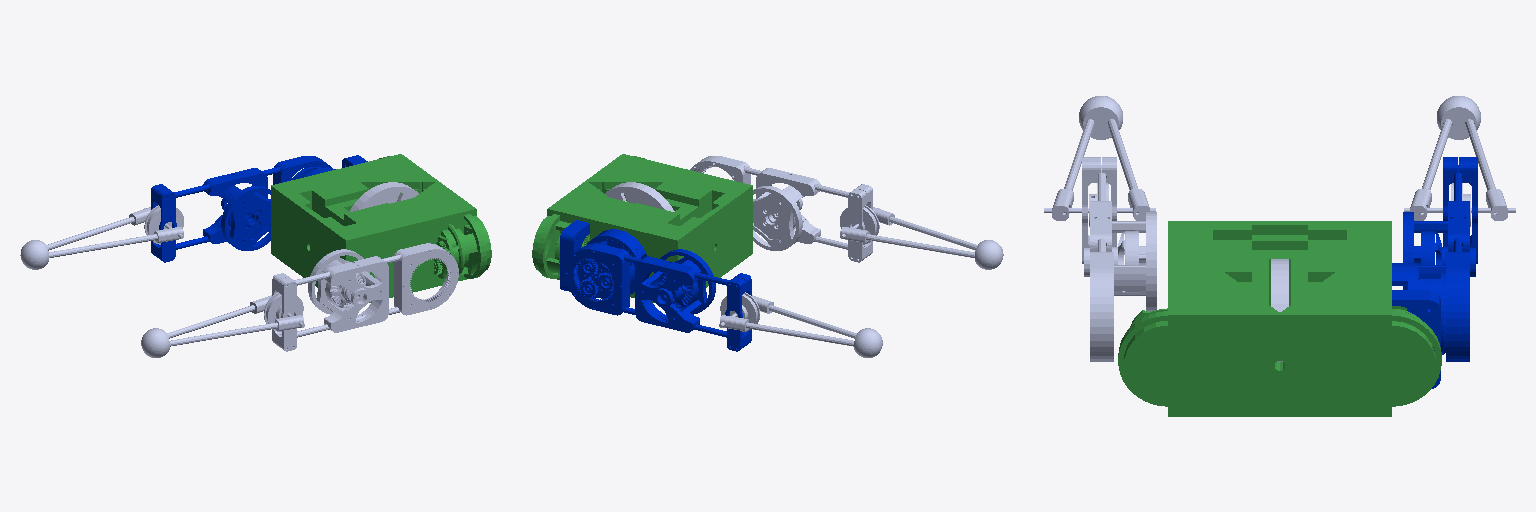
The robot description file, URDF, robot "Biped_SphereFoot":
<?xml version="1.0" encoding="utf-8"?>
<!-- This URDF was automatically created by SolidWorks to URDF Exporter! Originally created by [author] ([email redacted]) 
     Commit Version: 1.6.0-4-g7f85cfe  Build Version: 1.6.7995.38578
     For more information, please see http://wiki.ros.org/sw_urdf_exporter -->
<robot
  name="Biped_SphereFoot">
  <link
    name="Body">
    <inertial>
      <origin
        xyz="0.00875 -0.00011577 0.049281"
        rpy="0 0 0" />
      <mass
        value="0.5" />
      <inertia
        ixx="0.016664"
        ixy="-2.5817E-16"
        ixz="-2.5495E-05"
        iyy="0.01491"
        iyz="3.7322E-12"
        izz="0.025732" />
    </inertial>
    <visual>
      <origin
        xyz="0 0 0"
        rpy="0 0 0" />
      <geometry>
        <mesh
          filename="../meshes/Body.STL" />
      </geometry>
      <material
        name="">
        <color
          rgba="0.28627 0.66275 0.32941 1" />
      </material>
    </visual>
    <collision>
      <origin
        xyz="0 0 0"
        rpy="0 0 0" />
      <geometry>
        <mesh
          filename="../meshes/Body.STL" />
      </geometry>
    </collision>
  </link>
  <link
    name="L_Hip">
    <inertial>
      <origin
        xyz="-0.029749 0.019238 -1.7814E-08"
        rpy="0 0 0" />
      <mass
        value="0.24499" />
      <inertia
        ixx="0.00022957"
        ixy="-3.2972E-12"
        ixz="-2.2508E-10"
        iyy="0.00023971"
        iyz="-5.4613E-12"
        izz="0.00016193" />
    </inertial>
    <visual>
      <origin
        xyz="0 0 0"
        rpy="0 0 0" />
      <geometry>
        <mesh
          filename="../meshes/L_Hip.STL" />
      </geometry>
      <material
        name="">
        <color
          rgba="0.0078431 0.23922 0.82353 1" />
      </material>
    </visual>
    <collision>
      <origin
        xyz="0 0 0"
        rpy="0 0 0" />
      <geometry>
        <mesh
          filename="../meshes/L_Hip.STL" />
      </geometry>
    </collision>
  </link>
  <joint
    name="L_J1"
    type="revolute">
    <origin
      xyz="0.034433 0.1 0.05"
      rpy="0 0 0" />
    <parent
      link="Body" />
    <child
      link="L_Hip" />
    <axis
      xyz="1 0 0" />
    <limit
      lower="-0.35"
      upper="0.35"
      effort="2"
      velocity="0" />
  </joint>
  <link
    name="L_Thigh">
    <inertial>
      <origin
        xyz="-0.098727 -0.021408 5.2332E-07"
        rpy="0 0 0" />
      <mass
        value="0.24662" />
      <inertia
        ixx="0.00019357"
        ixy="-2.9018E-06"
        ixz="1.9838E-08"
        iyy="0.00032526"
        iyz="1.1756E-10"
        izz="0.00016215" />
    </inertial>
    <visual>
      <origin
        xyz="0 0 0"
        rpy="0 0 0" />
      <geometry>
        <mesh
          filename="../meshes/L_Thigh.STL" />
      </geometry>
      <material
        name="">
        <color
          rgba="0.0078431 0.23922 0.82353 1" />
      </material>
    </visual>
    <collision>
      <origin
        xyz="0 0 0"
        rpy="0 0 0" />
      <geometry>
        <mesh
          filename="../meshes/L_Thigh.STL" />
      </geometry>
    </collision>
  </link>
  <joint
    name="L_J2"
    type="revolute">
    <origin
      xyz="-0.04598 0.07 0"
      rpy="0 0 0" />
    <parent
      link="L_Hip" />
    <child
      link="L_Thigh" />
    <axis
      xyz="0 -1 0" />
    <limit
      lower="-2.8"
      upper="2.8"
      effort="2"
      velocity="0" />
  </joint>
  <link
    name="L_Shin">
    <inertial>
      <origin
        xyz="-0.083975 -0.0098423 1.5717E-05"
        rpy="0 0 0" />
      <mass
        value="0.072375" />
      <inertia
        ixx="1.209E-05"
        ixy="1.1864E-08"
        ixz="-6.4688E-11"
        iyy="2.9394E-05"
        iyz="-8.568E-09"
        izz="2.7528E-05" />
    </inertial>
    <visual>
      <origin
        xyz="0 0 0"
        rpy="0 0 0" />
      <geometry>
        <mesh
          filename="../meshes/L_Shin.STL" />
      </geometry>
      <material
        name="">
        <color
          rgba="0.79216 0.81961 0.93333 1" />
      </material>
    </visual>
    <collision>
      <origin
        xyz="0 0 0"
        rpy="0 0 0" />
      <geometry>
        <mesh
          filename="../meshes/L_Shin.STL" />
      </geometry>
    </collision>
  </link>
  <joint
    name="L_J3"
    type="revolute">
    <origin
      xyz="-0.218 0 0"
      rpy="0 0 0" />
    <parent
      link="L_Thigh" />
    <child
      link="L_Shin" />
    <axis
      xyz="0 1 0" />
    <limit
      lower="-2.8"
      upper="2.8"
      effort="2"
      velocity="0" />
  </joint>
  <link
    name="R_Hip">
    <inertial>
      <origin
        xyz="-0.029749 -0.019238 1.7814E-08"
        rpy="0 0 0" />
      <mass
        value="0.24499" />
      <inertia
        ixx="0.00022957"
        ixy="3.2972E-12"
        ixz="2.2508E-10"
        iyy="0.00023971"
        iyz="-5.4613E-12"
        izz="0.00016193" />
    </inertial>
    <visual>
      <origin
        xyz="0 0 0"
        rpy="0 0 0" />
      <geometry>
        <mesh
          filename="../meshes/R_Hip.STL" />
      </geometry>
      <material
        name="">
        <color
          rgba="0.0078431 0.23922 0.82353 1" />
      </material>
    </visual>
    <collision>
      <origin
        xyz="0 0 0"
        rpy="0 0 0" />
      <geometry>
        <mesh
          filename="../meshes/R_Hip.STL" />
      </geometry>
    </collision>
  </link>
  <joint
    name="R_J1"
    type="revolute">
    <origin
      xyz="0.034433 -0.1 0.05"
      rpy="0 0 0" />
    <parent
      link="Body" />
    <child
      link="R_Hip" />
    <axis
      xyz="1 0 0" />
    <limit
      lower="-0.35"
      upper="0.35"
      effort="2"
      velocity="0" />
  </joint>
  <link
    name="R_Thigh">
    <inertial>
      <origin
        xyz="-0.098727 0.021408 -5.2332E-07"
        rpy="0 0 0" />
      <mass
        value="0.24662" />
      <inertia
        ixx="0.00019357"
        ixy="2.9018E-06"
        ixz="-1.9838E-08"
        iyy="0.00032526"
        iyz="1.1756E-10"
        izz="0.00016215" />
    </inertial>
    <visual>
      <origin
        xyz="0 0 0"
        rpy="0 0 0" />
      <geometry>
        <mesh
          filename="../meshes/R_Thigh.STL" />
      </geometry>
      <material
        name="">
        <color
          rgba="0.79216 0.81961 0.93333 1" />
      </material>
    </visual>
    <collision>
      <origin
        xyz="0 0 0"
        rpy="0 0 0" />
      <geometry>
        <mesh
          filename="../meshes/R_Thigh.STL" />
      </geometry>
    </collision>
  </link>
  <joint
    name="R_J2"
    type="revolute">
    <origin
      xyz="-0.04598 -0.07 0"
      rpy="0 0 0" />
    <parent
      link="R_Hip" />
    <child
      link="R_Thigh" />
    <axis
      xyz="0 1 0" />
    <limit
      lower="-2.8"
      upper="2.8"
      effort="2"
      velocity="0" />
  </joint>
  <link
    name="R_Shin">
    <inertial>
      <origin
        xyz="-0.083975 0.0098423 -1.5717E-05"
        rpy="0 0 0" />
      <mass
        value="0.072375" />
      <inertia
        ixx="1.209E-05"
        ixy="-1.1864E-08"
        ixz="6.4688E-11"
        iyy="2.9394E-05"
        iyz="-8.568E-09"
        izz="2.7528E-05" />
    </inertial>
    <visual>
      <origin
        xyz="0 0 0"
        rpy="0 0 0" />
      <geometry>
        <mesh
          filename="../meshes/R_Shin.STL" />
      </geometry>
      <material
        name="">
        <color
          rgba="0.79216 0.81961 0.93333 1" />
      </material>
    </visual>
    <collision>
      <origin
        xyz="0 0 0"
        rpy="0 0 0" />
      <geometry>
        <mesh
          filename="../meshes/R_Shin.STL" />
      </geometry>
    </collision>
  </link>
  <joint
    name="R_J3"
    type="revolute">
    <origin
      xyz="-0.218 0 0"
      rpy="0 0 0" />
    <parent
      link="R_Thigh" />
    <child
      link="R_Shin" />
    <axis
      xyz="0 -1 0" />
    <limit
      lower="-2.8"
      upper="2.8"
      effort="2"
      velocity="0" />
  </joint>
  <link
    name="ReactionWheelX">
    <inertial>
      <origin
        xyz="0 2.7756E-17 1.3878E-17"
        rpy="0 0 0" />
      <mass
        value="0.097845" />
      <inertia
        ixx="0.00023479"
        ixy="-3.0965E-21"
        ixz="5.5763E-23"
        iyy="0.0001185"
        iyz="1.8513E-20"
        izz="0.0001185" />
    </inertial>
    <visual>
      <origin
        xyz="0 0 0"
        rpy="0 0 0" />
      <geometry>
        <mesh
          filename="../meshes/ReactionWheelX.STL" />
      </geometry>
      <material
        name="">
        <color
          rgba="0.79216 0.81961 0.93333 1" />
      </material>
    </visual>
    <collision>
      <origin
        xyz="0 0 0"
        rpy="0 0 0" />
      <geometry>
        <mesh
          filename="../meshes/ReactionWheelX.STL" />
      </geometry>
    </collision>
  </link>
  <joint
    name="WheelX"
    type="continuous">
    <origin
      xyz="-0.07 0 0.05"
      rpy="0 0 0" />
    <parent
      link="Body" />
    <child
      link="ReactionWheelX" />
    <axis
      xyz="1 0 0" />
  </joint>
  <link
    name="ReactionWheelY">
    <inertial>
      <origin
        xyz="0 2.7756E-17 0"
        rpy="0 0 0" />
      <mass
        value="0.097845" />
      <inertia
        ixx="0.0001185"
        ixy="-4.9501E-21"
        ixz="-3.438E-20"
        iyy="0.00023479"
        iyz="1.5487E-21"
        izz="0.0001185" />
    </inertial>
    <visual>
      <origin
        xyz="0 0 0"
        rpy="0 0 0" />
      <geometry>
        <mesh
          filename="../meshes/ReactionWheelY.STL" />
      </geometry>
      <material
        name="">
        <color
          rgba="0.79216 0.81961 0.93333 1" />
      </material>
    </visual>
    <collision>
      <origin
        xyz="0 0 0"
        rpy="0 0 0" />
      <geometry>
        <mesh
          filename="../meshes/ReactionWheelY.STL" />
      </geometry>
    </collision>
  </link>
  <joint
    name="WheelY"
    type="continuous">
    <origin
      xyz="0.020147 0 0.05"
      rpy="0 0 0" />
    <parent
      link="Body" />
    <child
      link="ReactionWheelY" />
    <axis
      xyz="0 1 0" />
  </joint>
</robot>

--- What the picture shows (computed from the rendered views, not written in the file) ---
The picture shows the robot from 3 angles, left to right: view 1: azimuth 30°, elevation 25°; view 2: azimuth 150°, elevation 25°; view 3: azimuth 270°, elevation 25°; orthographic projection.
Model Biped_SphereFoot with 9 links and 8 joints (6 revolute, 2 continuous), rooted at Body, posed all joints at 0.
Links seen in each view (by area): view 1: Body, R_Thigh, L_Thigh, R_Shin, L_Shin, ReactionWheelY; view 2: Body, L_Thigh, R_Thigh, L_Hip, L_Shin, R_Shin, ReactionWheelY; view 3: Body, R_Thigh, L_Thigh, R_Shin, L_Shin, L_Hip, ReactionWheelY.
Link boxes in pixels (box(x1,y1,x2,y2)): Body: box(271, 154, 491, 302); R_Thigh: box(272, 243, 458, 351); L_Thigh: box(151, 156, 331, 262); R_Shin: box(141, 292, 304, 357); L_Shin: box(20, 205, 183, 269); ReactionWheelY: box(349, 182, 418, 211); Body: box(532, 154, 752, 302); L_Thigh: box(565, 243, 751, 351); R_Thigh: box(690, 156, 872, 262); L_Hip: box(560, 220, 646, 298); L_Shin: box(719, 292, 882, 357); R_Shin: box(840, 205, 1003, 269); ReactionWheelY: box(605, 182, 674, 211); Body: box(1118, 221, 1441, 416); R_Thigh: box(1082, 157, 1156, 361); L_Thigh: box(1403, 157, 1477, 361); R_Shin: box(1044, 96, 1155, 226); L_Shin: box(1404, 96, 1515, 226); L_Hip: box(1392, 263, 1445, 388); ReactionWheelY: box(1271, 259, 1288, 361).
Bounding box of the posed robot: 0.546 × 0.422 × 0.1249 m (x, y, z).
7 mesh visuals loaded from 9 distinct referenced files (7 binary STL); not drawn: 2 (reference not matched to a file when rendering).
